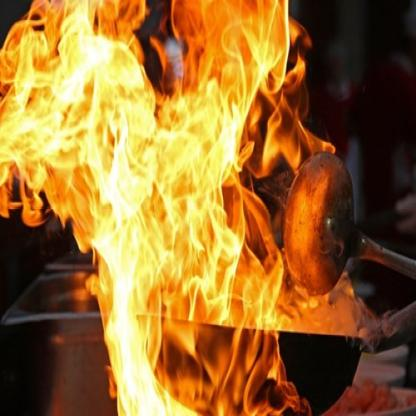fire: (0, 0, 337, 409)
